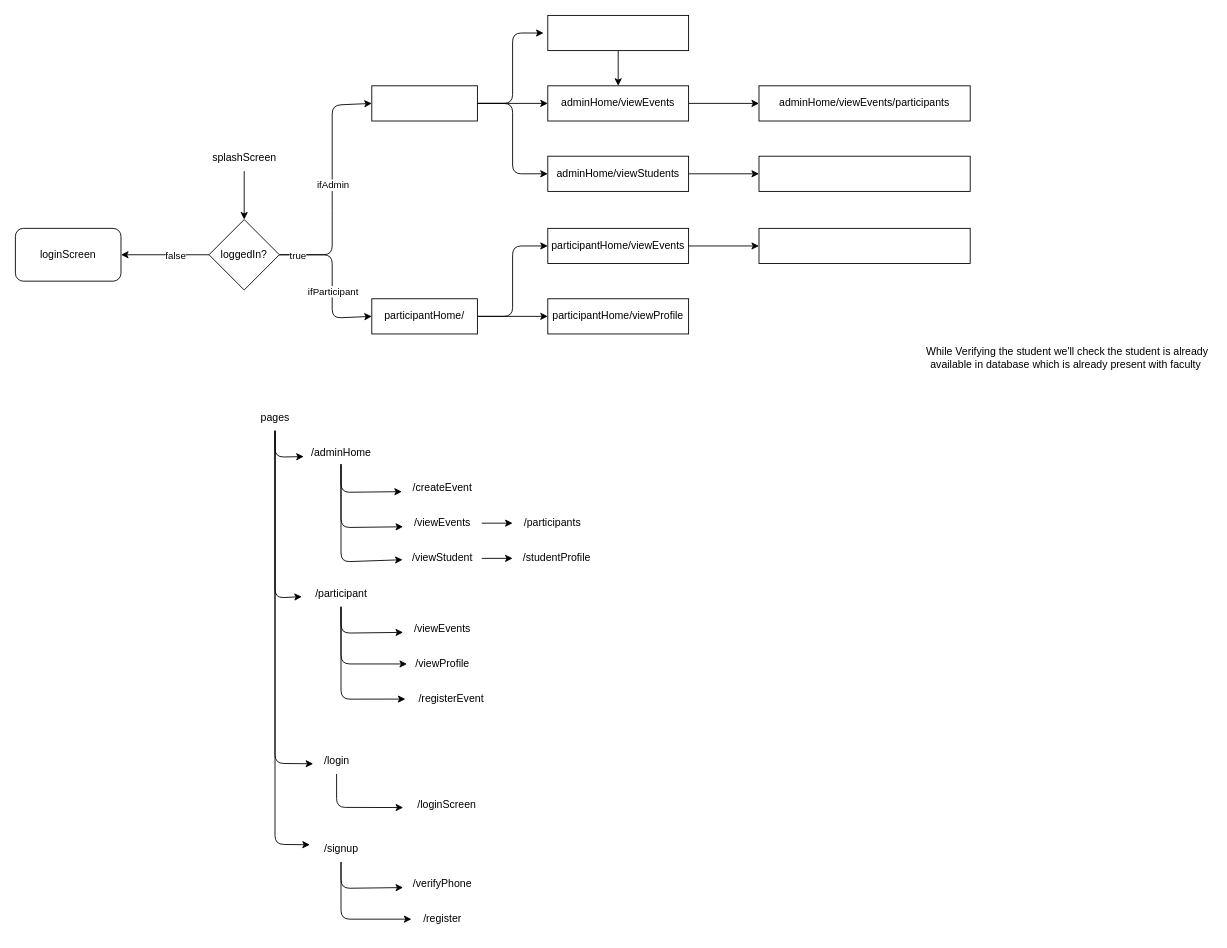
Image size: 1227x948. Some labels were removed from this diagram. The shapes that lost their labels are listed below. From the top down, each one's centre as x and y in pixels, then its label:
the point at 618,33: adminHome/createEvent
the point at 424,103: adminHome/
the point at 864,173: adminHome/viewStudents/studentProfile
the point at 864,245: participantHome/viewEvents/register
